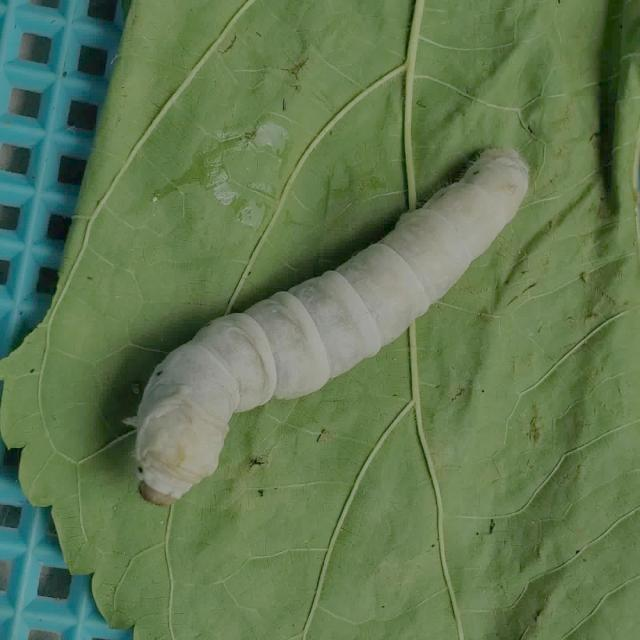Grasserie: (103, 117, 541, 572)
